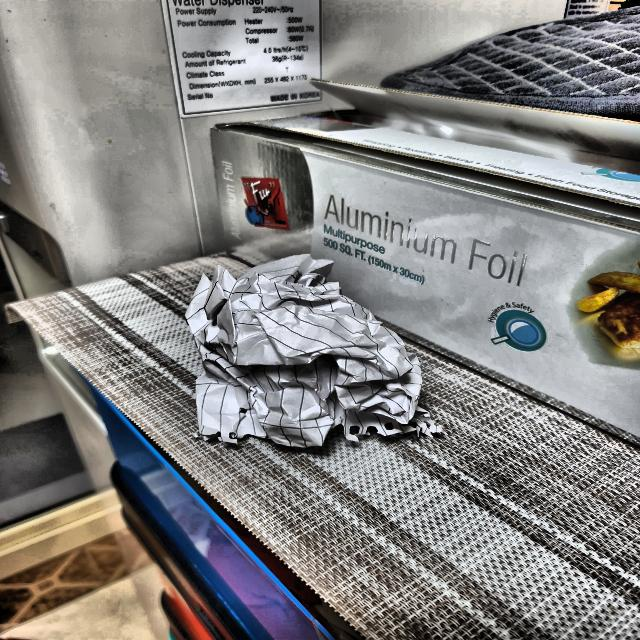Paper: (187, 250, 434, 448)
